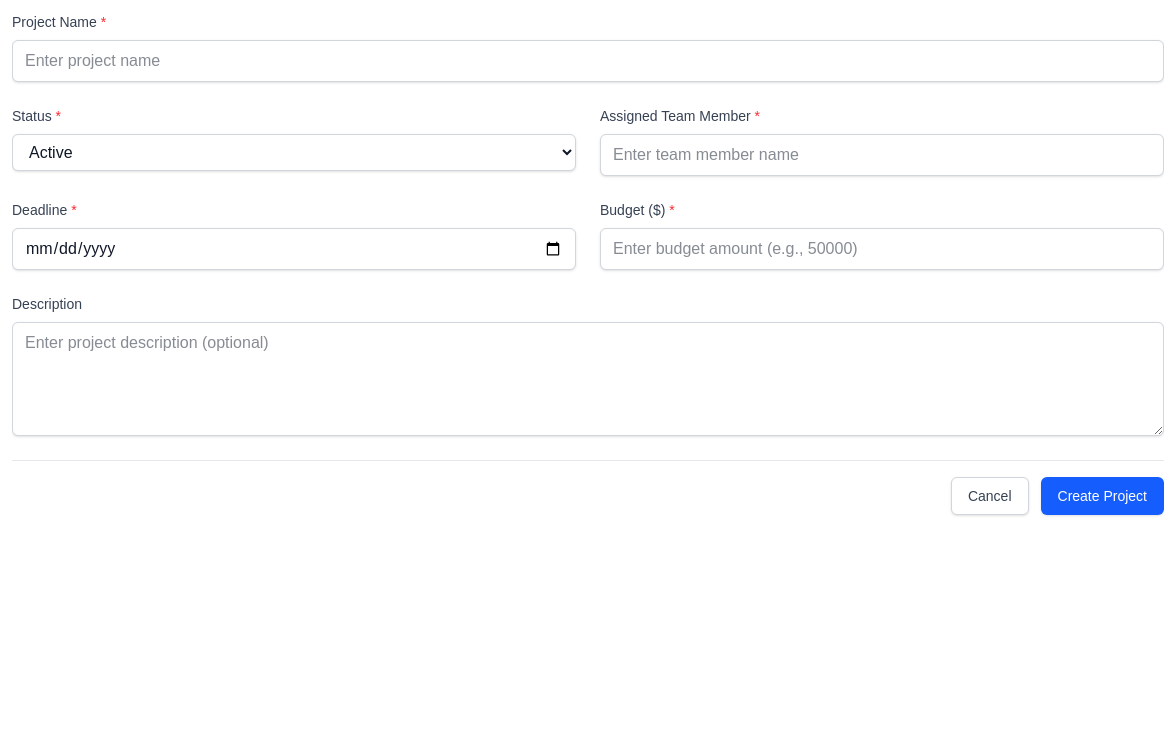
Test: ProjectForm Component › should validate past deadline
# Fill form with past deadline
Type "Test" into the field labelled "Project Name *" at {"x": 588, "y": 61}, box [12,40,1164,82]
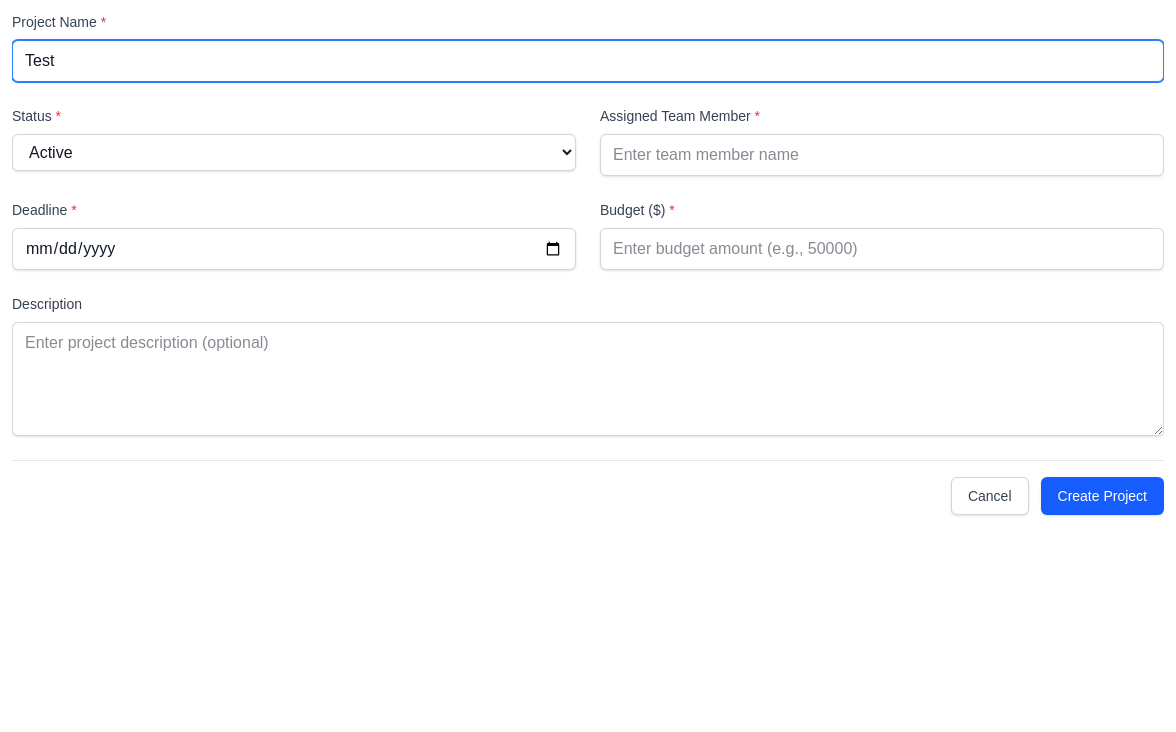
Type "John" into the field labelled "Assigned Team Member *" at {"x": 882, "y": 155}, box [600,134,1164,176]
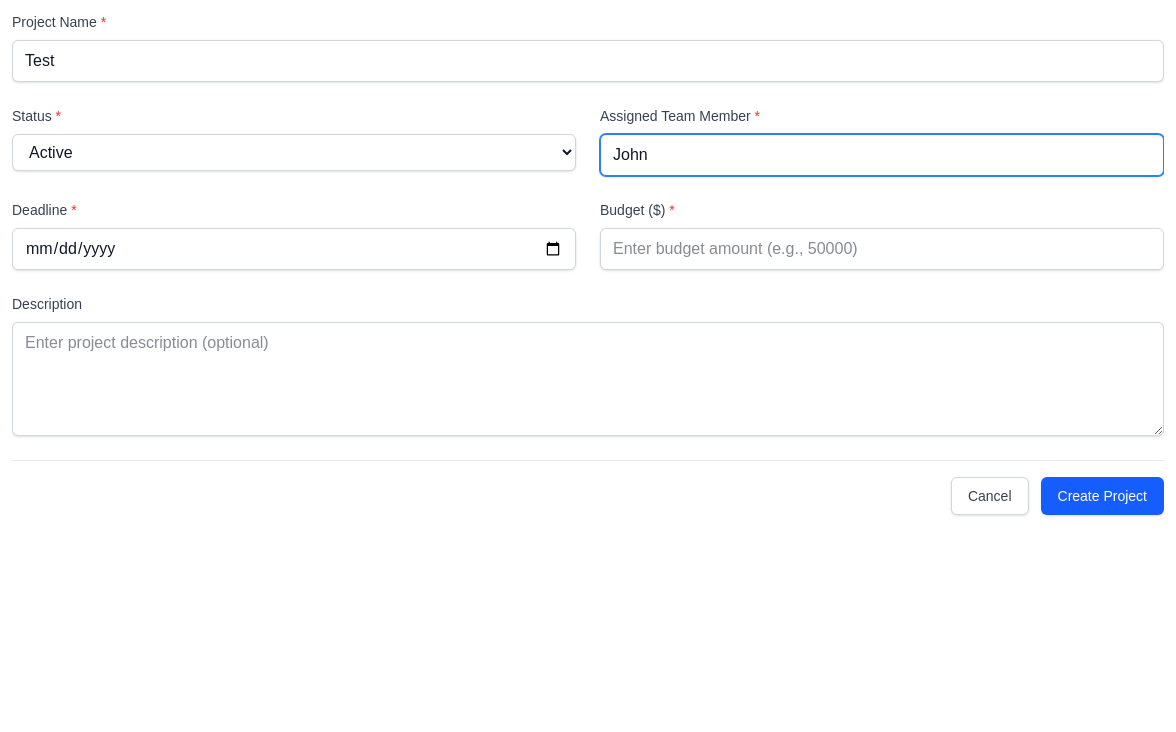
Type "2020-01-01" into the date field labelled "Deadline *" at {"x": 294, "y": 249}, box [12,228,576,270]
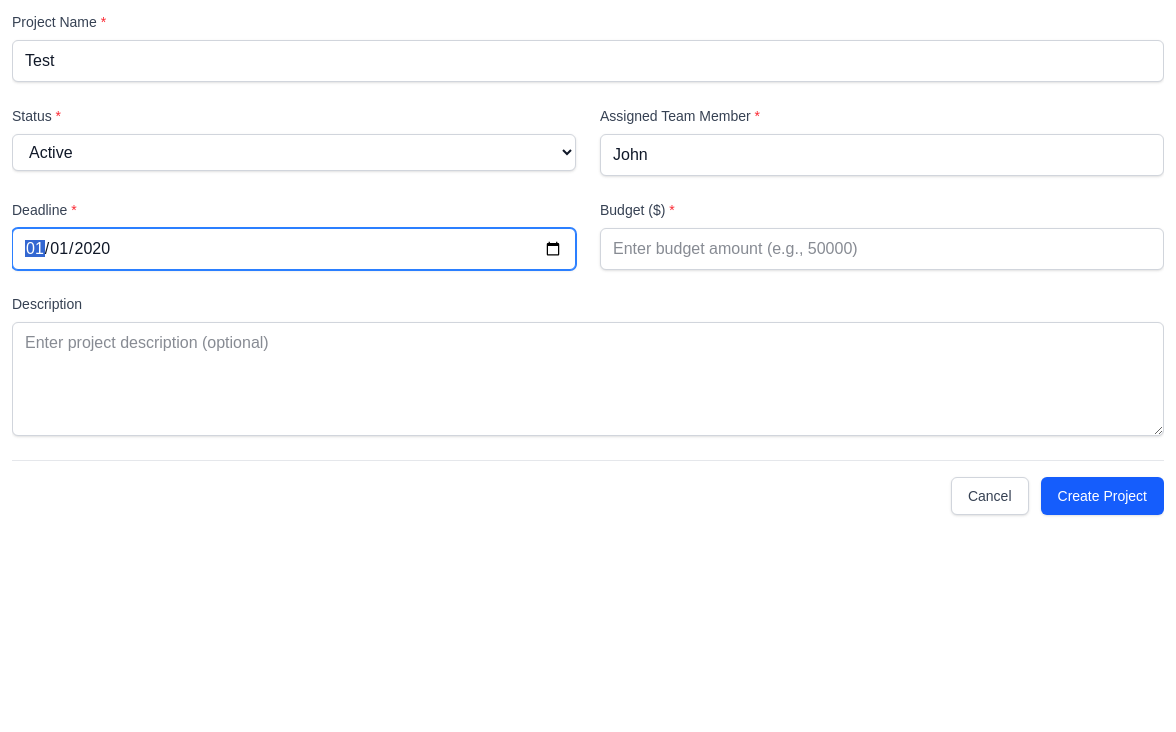
Type "1000" into the field labelled "Budget ($) *" at {"x": 882, "y": 249}, box [600,228,1164,270]
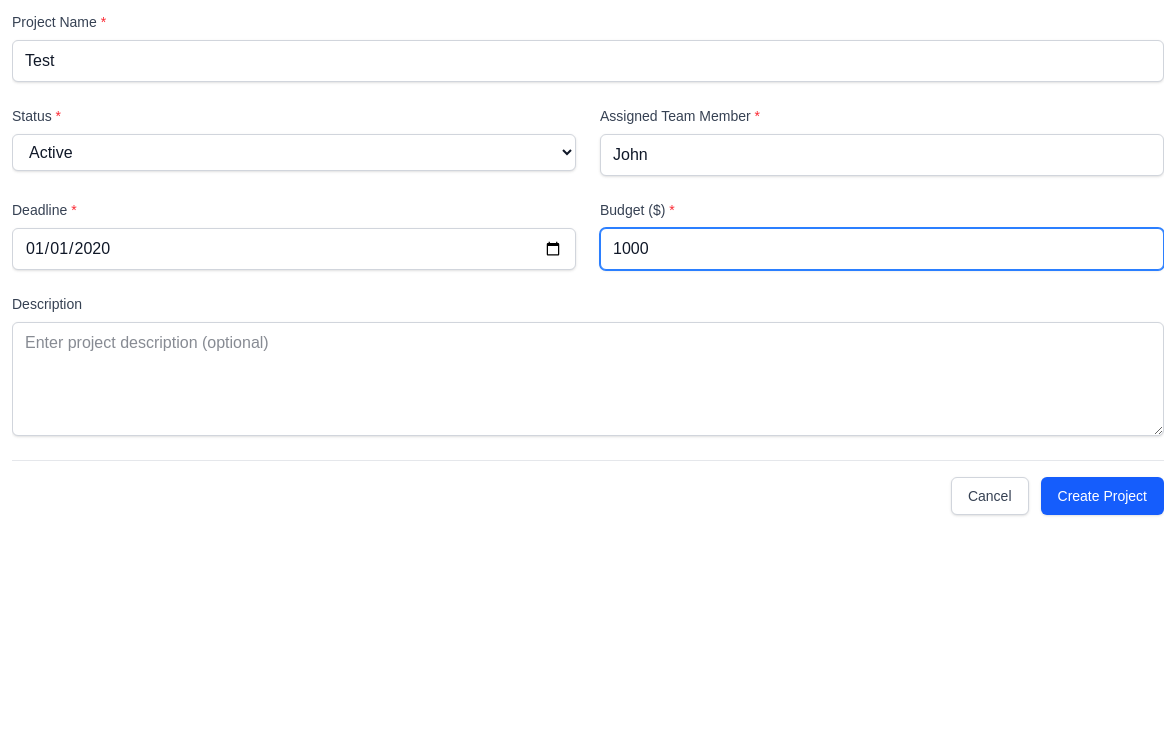
Click the button "Create Project" at {"x": 1102, "y": 496}, box [1040,477,1164,515]
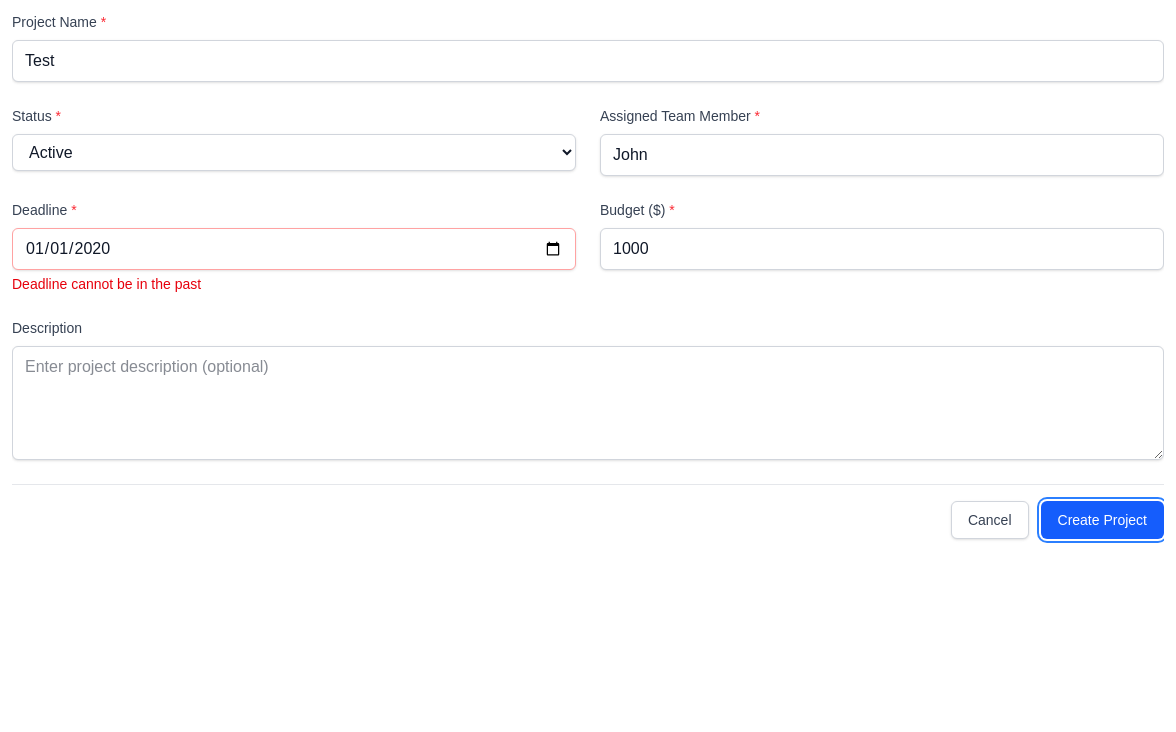
Expected: the text "Deadline cannot be in the past" is shown, [12,276,201,292]
